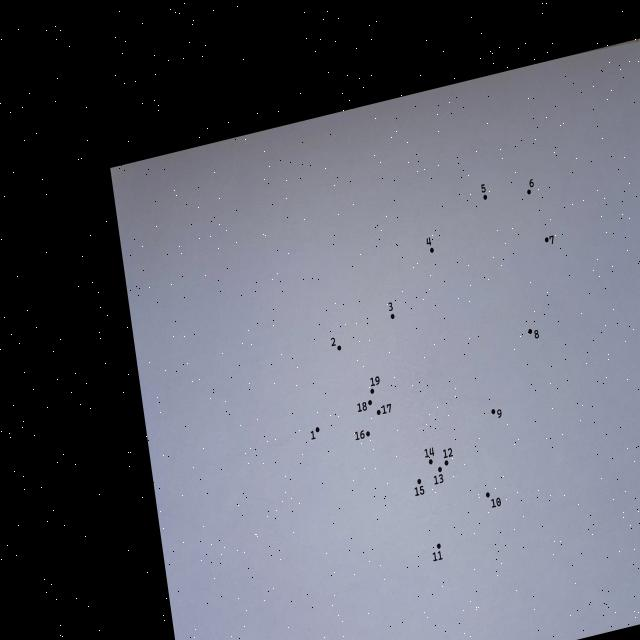Dot: (315, 427, 320, 432), (483, 194, 487, 200), (527, 189, 531, 195), (545, 236, 549, 242), (444, 460, 448, 466), (429, 458, 433, 464), (417, 478, 421, 484), (486, 492, 490, 498), (437, 543, 441, 549), (366, 431, 370, 437), (377, 410, 381, 416), (370, 388, 374, 394), (337, 345, 341, 351), (390, 314, 394, 320), (528, 329, 532, 334), (492, 409, 496, 414), (438, 467, 442, 472), (368, 400, 372, 405), (430, 248, 434, 253)
DotNumber: (486, 492, 502, 508), (357, 399, 372, 413), (414, 478, 425, 497), (433, 466, 444, 485), (424, 446, 435, 464), (432, 543, 443, 561), (376, 403, 392, 415), (443, 448, 453, 466), (355, 429, 370, 441), (370, 376, 380, 394), (331, 337, 342, 351), (310, 426, 320, 441), (426, 236, 434, 254), (480, 183, 488, 200), (388, 302, 395, 320), (528, 328, 539, 339), (527, 178, 534, 195), (491, 408, 502, 418), (544, 234, 554, 244)
Number: (414, 485, 425, 497), (424, 447, 435, 458), (443, 447, 453, 459), (433, 550, 443, 562), (434, 474, 444, 485), (491, 497, 501, 508), (355, 430, 365, 440), (357, 402, 367, 412), (370, 376, 380, 386), (382, 404, 391, 414), (310, 430, 316, 440), (426, 237, 432, 246), (529, 178, 534, 188), (534, 329, 539, 339), (331, 337, 336, 347), (388, 302, 393, 312), (481, 184, 486, 193), (549, 235, 554, 244), (497, 409, 502, 418)
